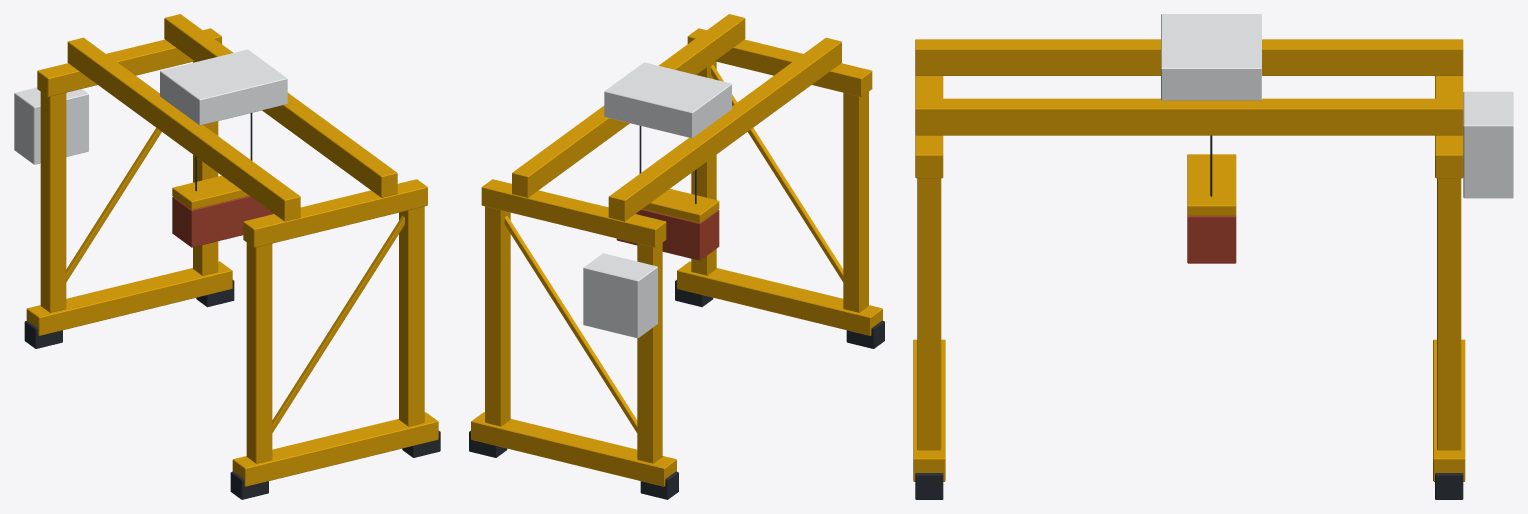
Rendered from grua-rtg.glb.
3 views of the same model, side by side, from view 1: azimuth 30°, elevation 25°; view 2: azimuth 150°, elevation 25°; view 3: azimuth 270°, elevation 25° (orthographic). The views are drawn at different scales.
Visible parts, largest first — view 1: grua_rtg; view 2: grua_rtg; view 3: grua_rtg.
Boxes of the visible parts, box(x1,y1,x2,y2) form: grua_rtg: box(14, 14, 440, 499); grua_rtg: box(469, 14, 884, 499); grua_rtg: box(913, 14, 1513, 499).
Bounding box in the file's own units: 14.4 × 21.8 × 29.8.
